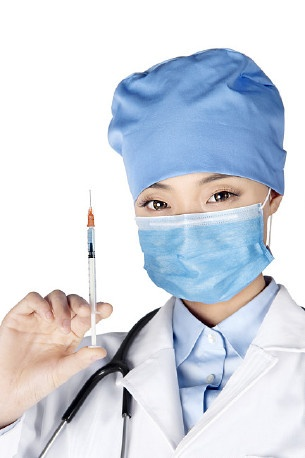Mask: (133, 166, 267, 300)
